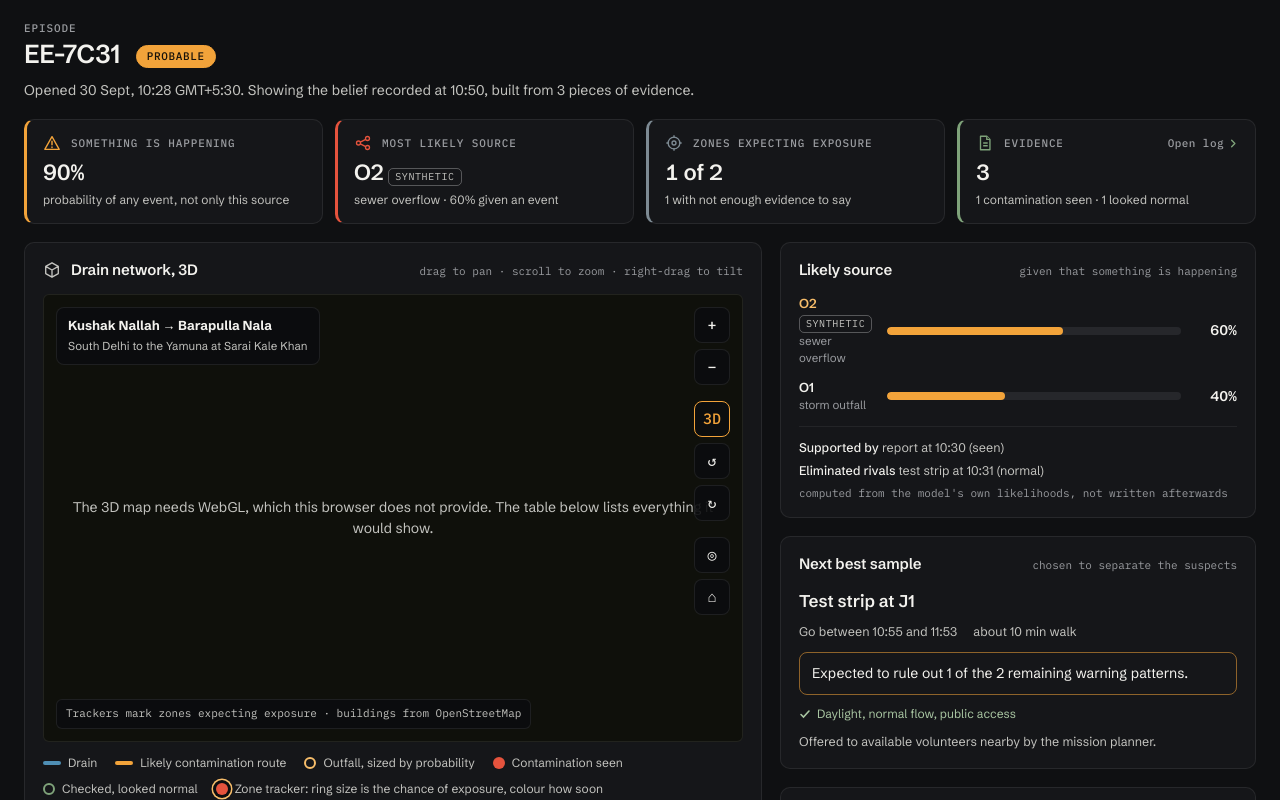
Console and belief replay (FR-36, FR-37) › shows retracted evidence struck through, never hidden
Expected: the text "90%" is shown, [43,159,84,186]
Click the button "Evidence Open log 3 1 contamination seen · 1 looked normal": point(1034, 143) [957,119,1256,224]
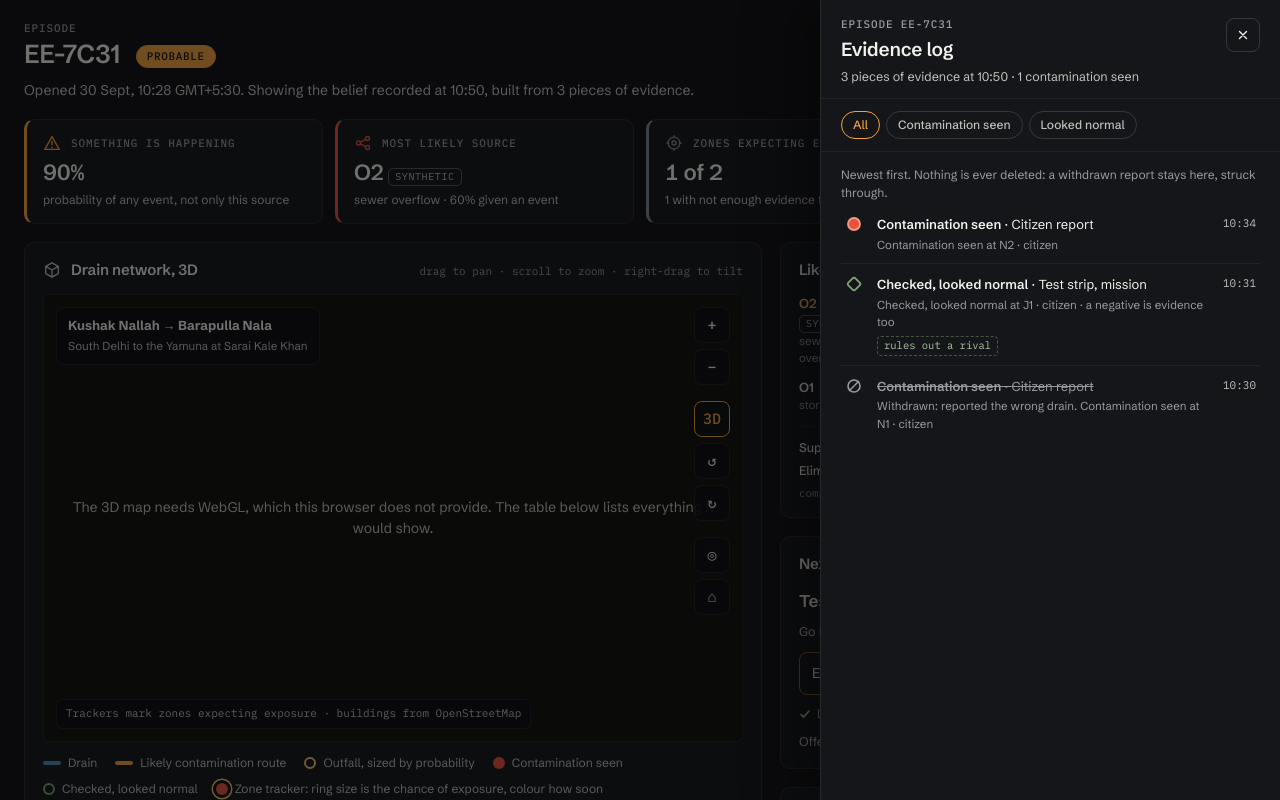
Now the element with test id "evidence-retracted" shows "Withdrawn: reported the wrong drain", box [877,399,1080,413]
